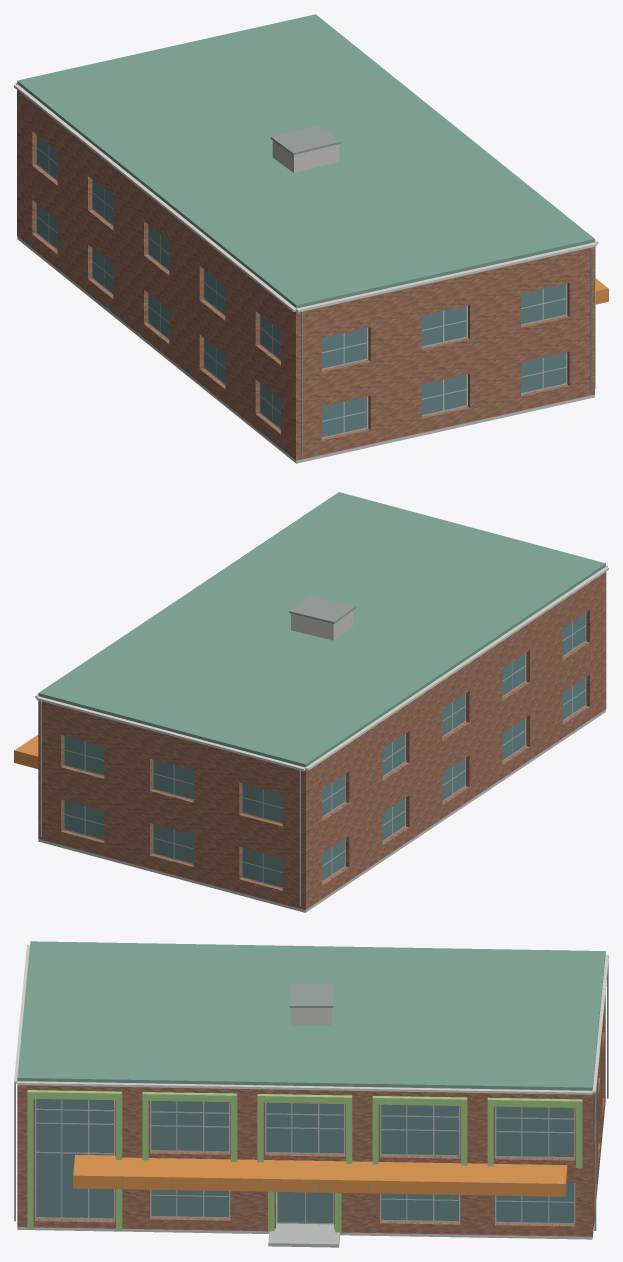
3 views of the same model, one above another, from view 1: azimuth 30°, elevation 25°; view 2: azimuth 150°, elevation 25°; view 3: azimuth 270°, elevation 25° (orthographic). The views are drawn at different scales.
Parts seen in each view (by area): view 1: dining__roof, dining__brick, dining__glass, dining__white, dining__wall, dining__frame, dining__metal; view 2: dining__roof, dining__brick, dining__glass, dining__white, dining__frame, dining__wall, dining__metal, dining__orange; view 3: dining__roof, dining__glass, dining__brick, dining__orange, dining__green, dining__frame, dining__white, dining__wall, dining__metal, dining__threshold-entry.
Boxes of the visible parts, box(x1,y1,x2,y2) form: dining__roof: box(17, 14, 594, 308); dining__brick: box(17, 90, 594, 460); dining__glass: box(37, 135, 566, 437); dining__white: box(14, 82, 598, 312); dining__wall: box(17, 140, 594, 463); dining__frame: box(36, 134, 567, 438); dining__metal: box(270, 125, 608, 456); dining__roof: box(38, 492, 605, 767); dining__brick: box(38, 572, 606, 909); dining__glass: box(64, 613, 585, 887); dining__white: box(35, 565, 608, 771); dining__frame: box(63, 613, 586, 888); dining__wall: box(38, 610, 605, 912); dining__metal: box(14, 595, 355, 906); dining__orange: box(14, 735, 38, 768); dining__roof: box(17, 941, 605, 1090); dining__glass: box(36, 1099, 574, 1222); dining__brick: box(17, 994, 605, 1236); dining__orange: box(73, 1154, 567, 1196); dining__green: box(27, 1090, 582, 1234); dining__frame: box(35, 1099, 575, 1224); dining__white: box(14, 945, 608, 1094); dining__wall: box(17, 1008, 605, 1239); dining__metal: box(14, 962, 608, 1230); dining__threshold-entry: box(268, 1223, 340, 1247).
Bounding box in the file's own units: 19.49 × 9.38 × 29.46.
10 materials, 1 textured.
